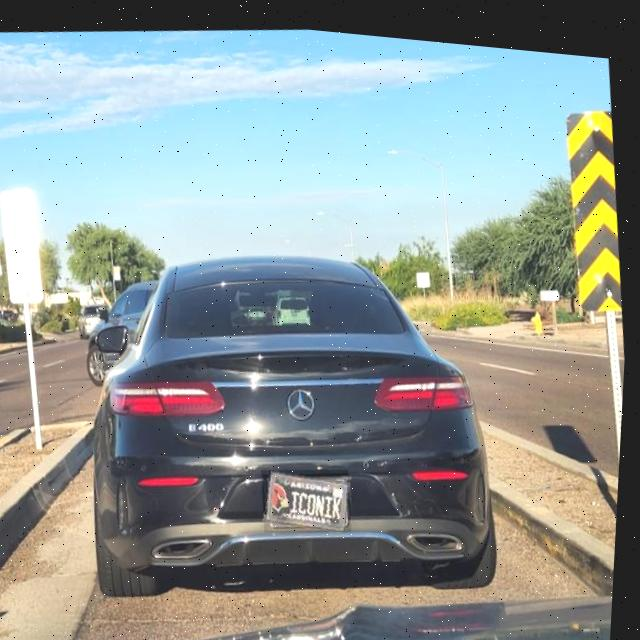LicensePlate: (269, 464, 353, 524)
